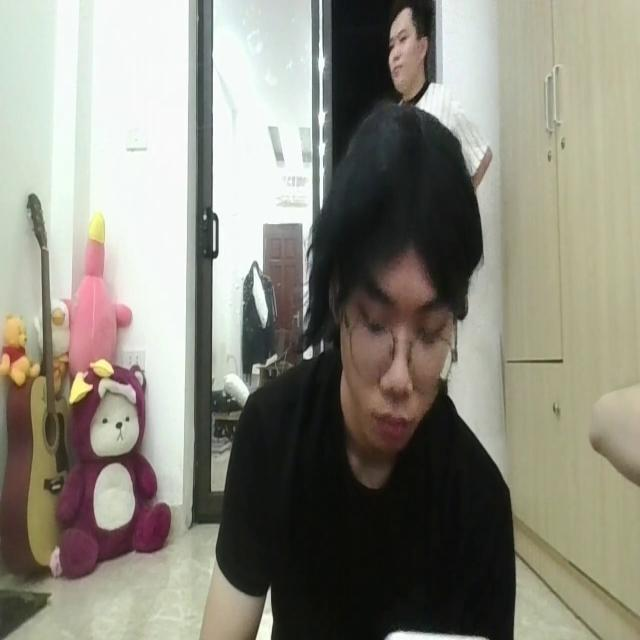extra_person: (377, 0, 438, 102)
student: (205, 97, 512, 640)
